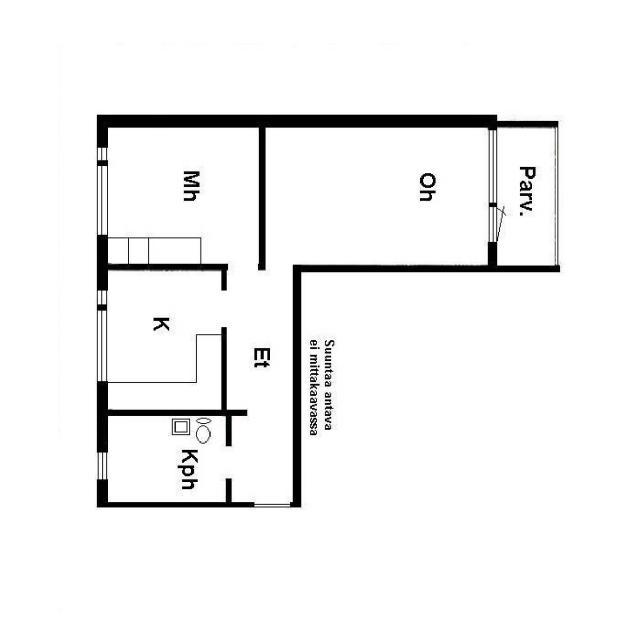door: (488, 206, 531, 242)
